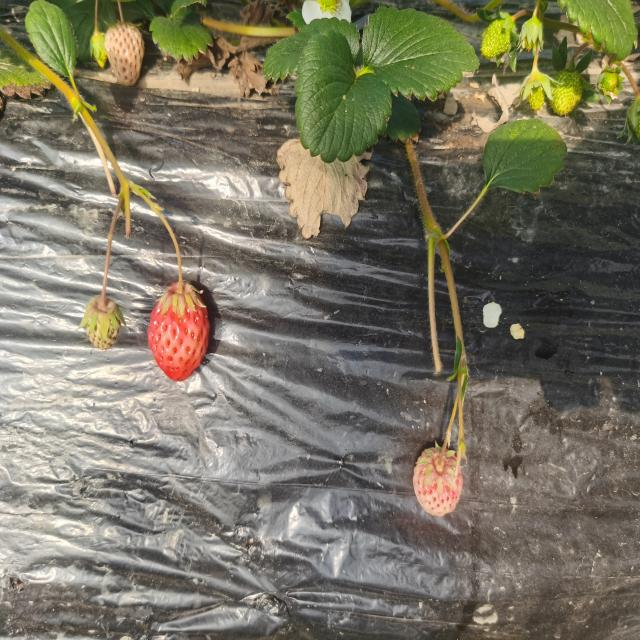stem: (437, 427, 451, 467), (174, 240, 184, 295)
strawberry: (148, 282, 209, 382)
